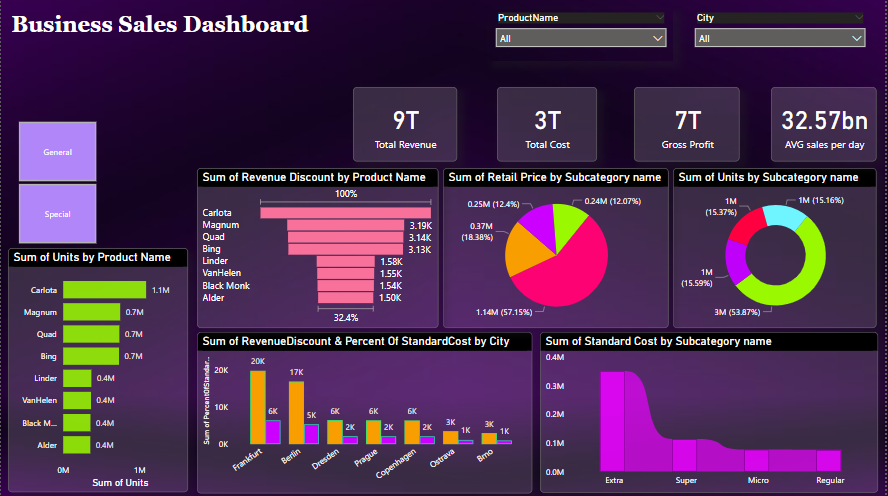

What the dashboard file says about the page in this screenshot:
{"tool":"powerbi","page":{"name":"Page 1","canvas":[1280,720],"ordinal":0},"visuals":[{"type":"clusteredColumnChart","title":"Sum of RevenueDiscount & Percent Of StandardCost by City","fields":{"Category":["Sales Fact Table 2.City"],"Y":["Sum(Sales Fact Table 2.PercentOfStandardCost)","Sum(Sales Fact Table 2.RevenueDiscount)"]},"box":[284,481.4,485.8,233.5],"z":0},{"type":"donutChart","title":"Sum of Units by Subcategory name","fields":{"Y":["Sum(Sales Fact Table 2.Units)"],"Category":["Sales Fact Table 2.SubCategory Name"]},"box":[974.4,243.6,295.5,232],"z":1000},{"type":"ribbonChart","title":"Sum of Standard Cost by Subcategory name","fields":{"Y":["Sum(Sales Fact Table 2.StandardCost)"],"Category":["Sales Fact Table 2.SubCategory Name"]},"box":[780.5,481,489.6,233.3],"z":2000},{"type":"barChart","title":"Sum of Units by Product Name","fields":{"Category":["Sales Fact Table 2.ProductName"],"Y":["Sum(Sales Fact Table 2.Units)"]},"box":[10.1,360,260.6,354.2],"z":3000},{"type":"pieChart","title":"Sum of Retail Price by Subcategory name","fields":{"Y":["Sum(Sales Fact Table 2.RetailPrice)"],"Category":["Sales Fact Table 2.SubCategory Name"]},"box":[640,243.6,327.2,232],"z":4000},{"type":"funnel","title":"Sum of Revenue Discount by Product Name","fields":{"Category":["Sales Fact Table 2.ProductName"],"Y":["Sum(Sales Fact Table 2.RevenueDiscount)"]},"box":[284,243.6,350,232],"z":5000},{"type":"slicer","fields":{"Values":["Sales Fact Table 2.Category"]},"box":[0,169.5,162.2,190],"z":6000},{"type":"card","fields":{"Values":["Sales Fact Table 2.AVG sales per day"]},"box":[1116.3,125.7,153.4,108.1],"z":7000},{"type":"card","fields":{"Values":["Sales Fact Table 2.Gross Profit"]},"box":[917.6,125.7,153.4,108.1],"z":8000},{"type":"card","fields":{"Values":["Sales Fact Table 2.Total Cost"]},"box":[718.9,125.7,144.7,108.1],"z":9000},{"type":"card","fields":{"Values":["Sales Fact Table 2.Total Revenue"]},"box":[510,125.7,150.5,108.1],"z":10000},{"type":"textbox","box":[10.2,13.2,460.3,54.1],"z":11000},{"type":"slicer","fields":{"Values":["Sales Fact Table 2.City"]},"box":[995.1,13.2,267.4,74.5],"z":12000},{"type":"slicer","fields":{"Values":["Sales Fact Table 2.ProductName"]},"box":[707.2,13.2,267.4,74.5],"z":13000}]}

Visuals, with their boxes in screenshot pixels (x1, y1, x2, y2), scaled from the page's 1280x720 canvas onto the 888x496 screenshot:
"Sum of RevenueDiscount & Percent Of StandardCost by City" clusteredColumnChart: rect(197, 332, 534, 492)
"Sum of Units by Subcategory name" donutChart: rect(676, 168, 881, 328)
"Sum of Standard Cost by Subcategory name" ribbonChart: rect(541, 331, 881, 492)
"Sum of Units by Product Name" barChart: rect(7, 248, 188, 492)
"Sum of Retail Price by Subcategory name" pieChart: rect(444, 168, 671, 328)
"Sum of Revenue Discount by Product Name" funnel: rect(197, 168, 440, 328)
slicer - Sales Fact Table 2.Category: rect(0, 117, 113, 248)
card - Sales Fact Table 2.AVG sales per day: rect(774, 87, 881, 161)
card - Sales Fact Table 2.Gross Profit: rect(637, 87, 743, 161)
card - Sales Fact Table 2.Total Cost: rect(499, 87, 599, 161)
card - Sales Fact Table 2.Total Revenue: rect(354, 87, 458, 161)
textbox: rect(7, 9, 326, 46)
slicer - Sales Fact Table 2.City: rect(690, 9, 876, 60)
slicer - Sales Fact Table 2.ProductName: rect(491, 9, 676, 60)
